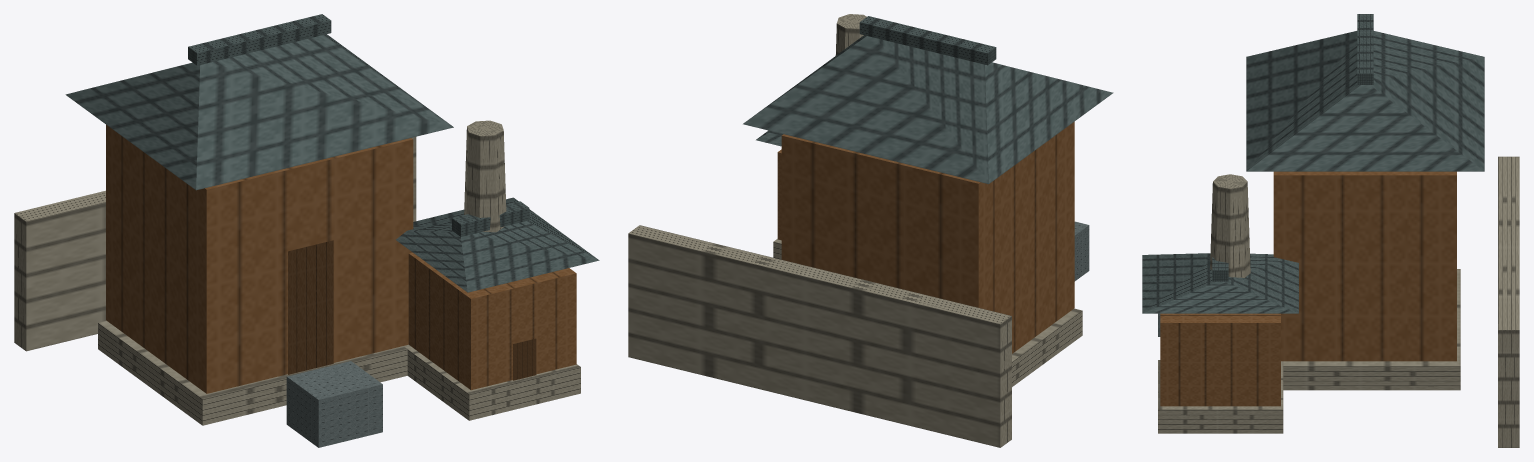
Rendered from domestic-SMITH-3-lod2.glb.
3 views of the same model, side by side, from view 1: azimuth 30°, elevation 25°; view 2: azimuth 150°, elevation 25°; view 3: azimuth 270°, elevation 25° (orthographic). The views are drawn at different scales.
Size of the model in its own units: 0.85 by 0.691 by 0.7825.
Materials: 1 (1 with a texture image).
